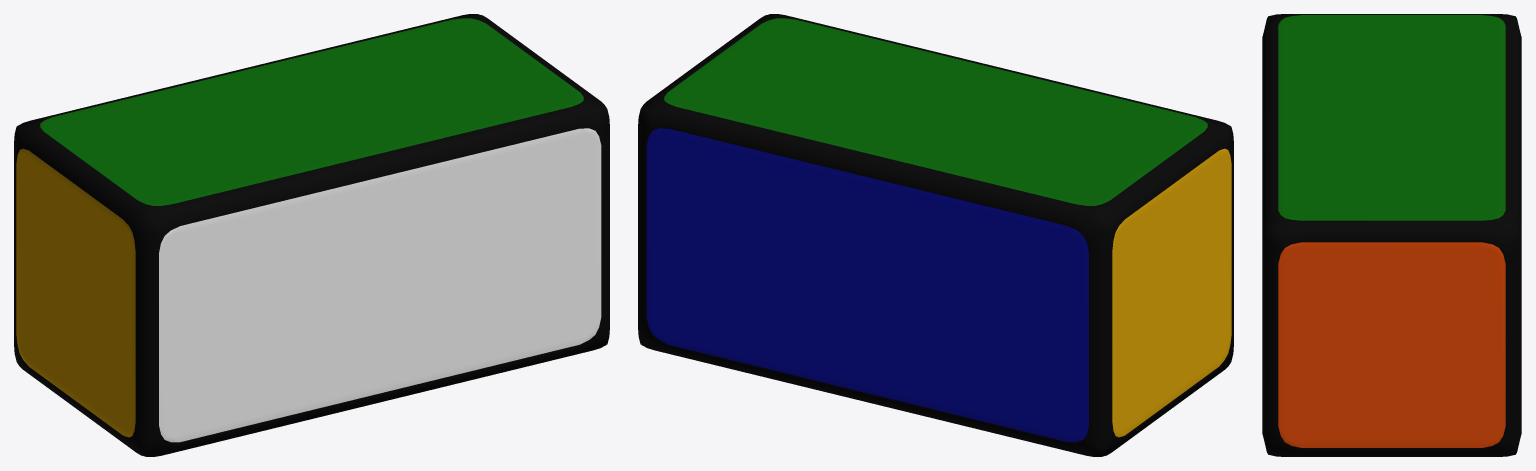
3 renders of one model, left to right at view 1: azimuth 30°, elevation 25°; view 2: azimuth 150°, elevation 25°; view 3: azimuth 270°, elevation 25°, orthographic. The views are drawn at different scales.
Visible parts, largest first — view 1: 12; view 2: 12; view 3: 12.
Boxes of the visible parts, <box> form: 12: <box>14,14,609,456</box>; 12: <box>638,14,1233,456</box>; 12: <box>1262,14,1521,456</box>.
Bounding box in the file's own units: 20 × 10 × 10.
